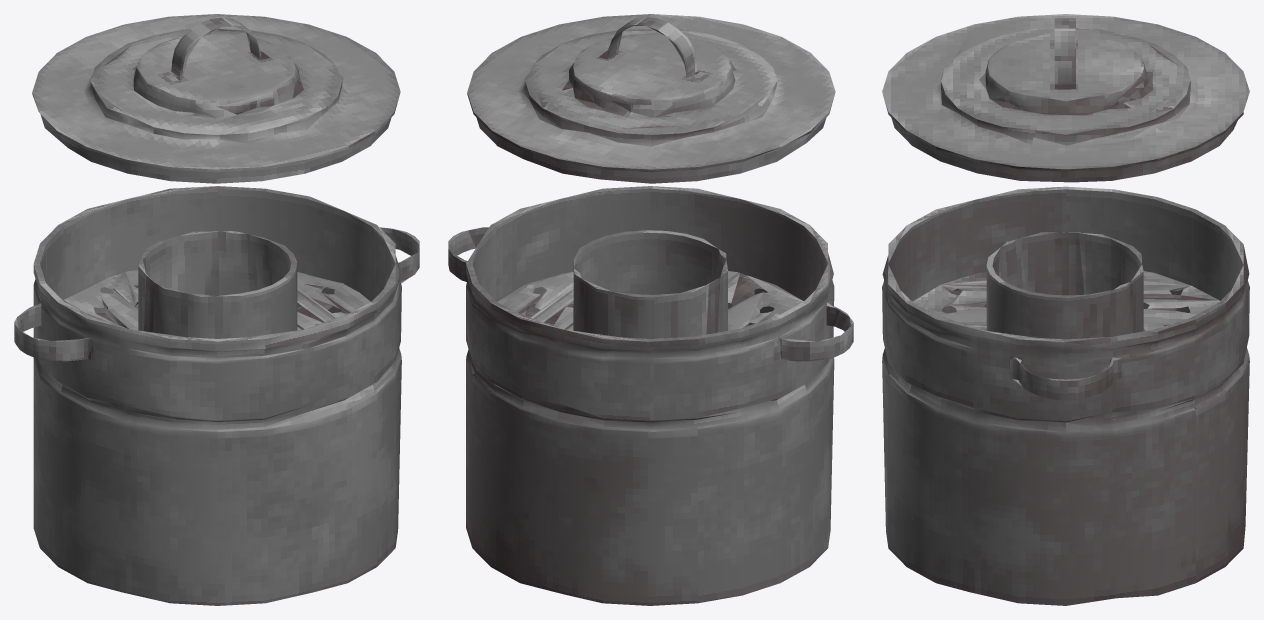
File: stock_pot.glb
3 renders of one model, left to right at view 1: azimuth 30°, elevation 25°; view 2: azimuth 150°, elevation 25°; view 3: azimuth 270°, elevation 25°, orthographic.
Visible parts, largest first — view 1: mesh; view 2: mesh; view 3: mesh.
Boxes of the visible parts, left/top/right/bottom form: mesh: left=14, top=14, right=419, bottom=605; mesh: left=448, top=14, right=853, bottom=605; mesh: left=882, top=14, right=1249, bottom=605.
Size of the model in its own units: 0.325 by 0.4 by 0.2639.
1 material, 1 textured.
